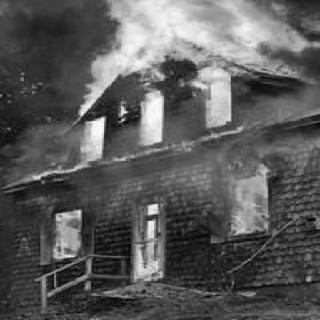Fire: (47, 203, 90, 261)
